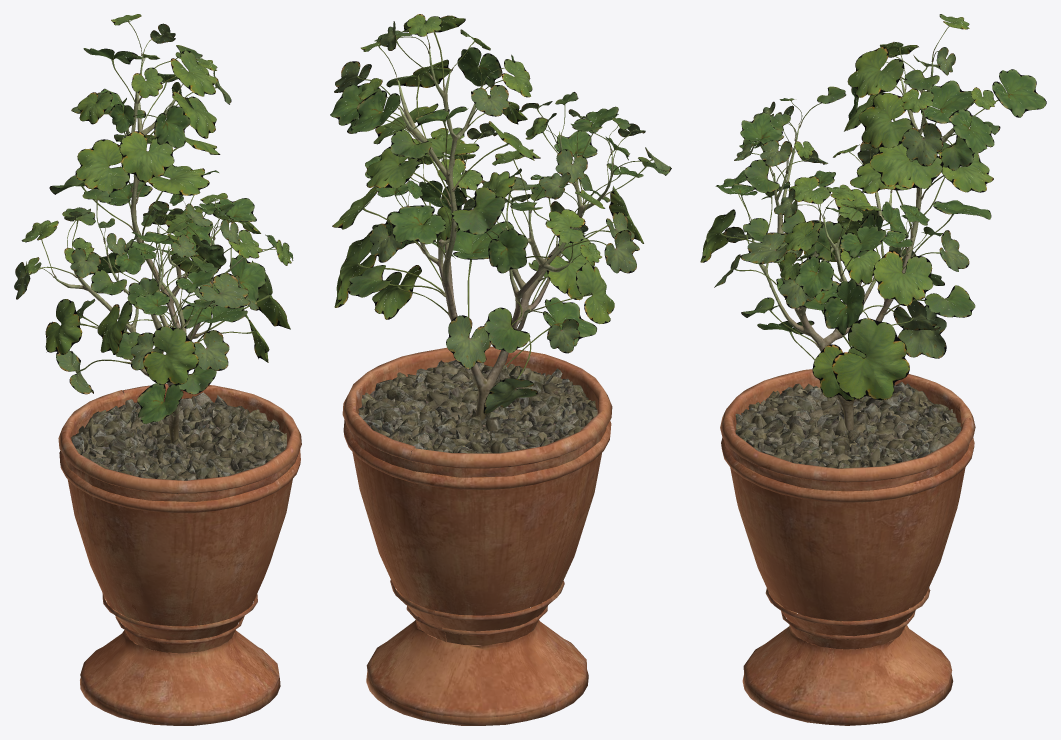
The model's file is potted_plant_01.glb.
The picture shows the model from 3 angles, left to right: view 1: azimuth 30°, elevation 25°; view 2: azimuth 150°, elevation 25°; view 3: azimuth 270°, elevation 25°; orthographic projection. The views are drawn at different scales.
Parts seen in each view (by area): view 1: potted_plant_01_pot, potted_plant_01_leaves, potted_plant_01_pebbles, potted_plant_01_stem; view 2: potted_plant_01_pot, potted_plant_01_leaves, potted_plant_01_pebbles, potted_plant_01_stem; view 3: potted_plant_01_pot, potted_plant_01_leaves, potted_plant_01_pebbles, potted_plant_01_stem.
Part boxes in pixels (x1=…): potted_plant_01_pot: x1=58, y1=383, x2=301, y2=725; potted_plant_01_leaves: x1=14, y1=14, x2=293, y2=423; potted_plant_01_pebbles: x1=71, y1=392, x2=286, y2=493; potted_plant_01_stem: x1=53, y1=54, x2=243, y2=443; potted_plant_01_pot: x1=342, y1=346, x2=612, y2=725; potted_plant_01_leaves: x1=330, y1=14, x2=671, y2=414; potted_plant_01_pebbles: x1=358, y1=360, x2=597, y2=466; potted_plant_01_stem: x1=398, y1=48, x2=612, y2=420; potted_plant_01_pot: x1=720, y1=369, x2=975, y2=725; potted_plant_01_leaves: x1=700, y1=14, x2=1046, y2=401; potted_plant_01_pebbles: x1=735, y1=382, x2=961, y2=482; potted_plant_01_stem: x1=751, y1=55, x2=966, y2=430.
Bounding box in the file's own units: 0.5874 × 1.34 × 0.6336.
2 materials, 2 textured.
